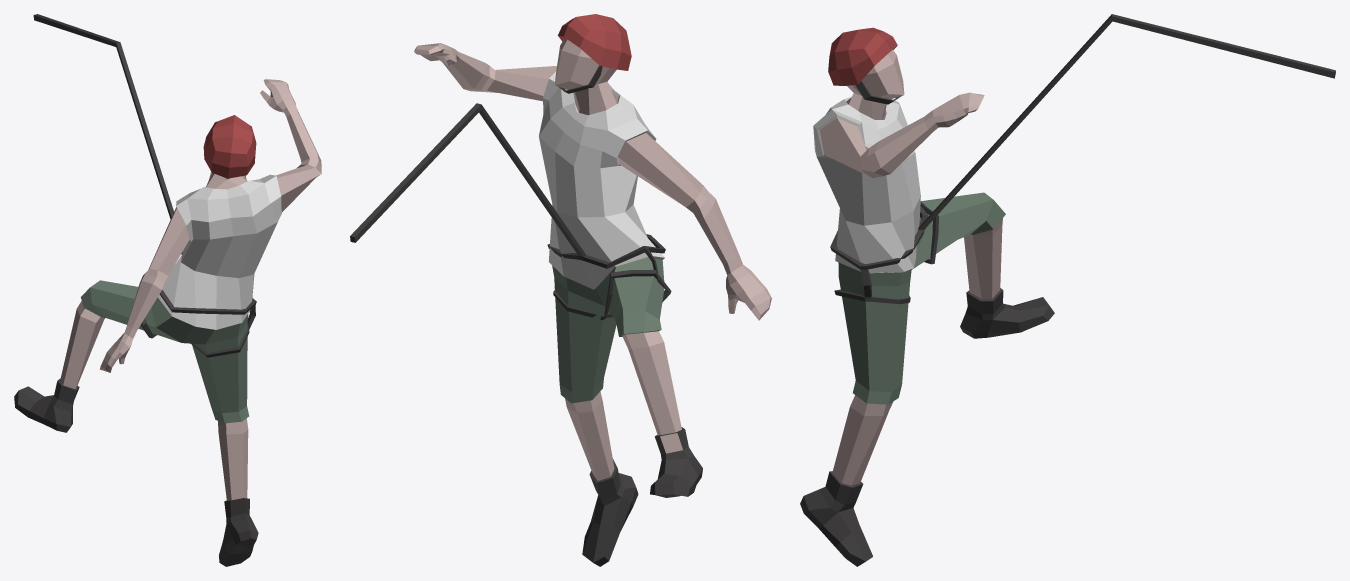
The model's file is Climber2.gltf.
The picture shows the model from 3 angles, left to right: view 1: azimuth 30°, elevation 25°; view 2: azimuth 150°, elevation 25°; view 3: azimuth 270°, elevation 25°; orthographic projection. The views are drawn at different scales.
Parts seen in each view (by area): view 1: Model_climbing; view 2: Model_climbing; view 3: Model_climbing.
Part boxes in pixels (x1,y1,x2,y2): Model_climbing: [14, 14, 321, 566]; Model_climbing: [350, 14, 771, 566]; Model_climbing: [800, 14, 1335, 566].
Bounding box in the file's own units: 0.557 × 0.9711 × 0.8659.
